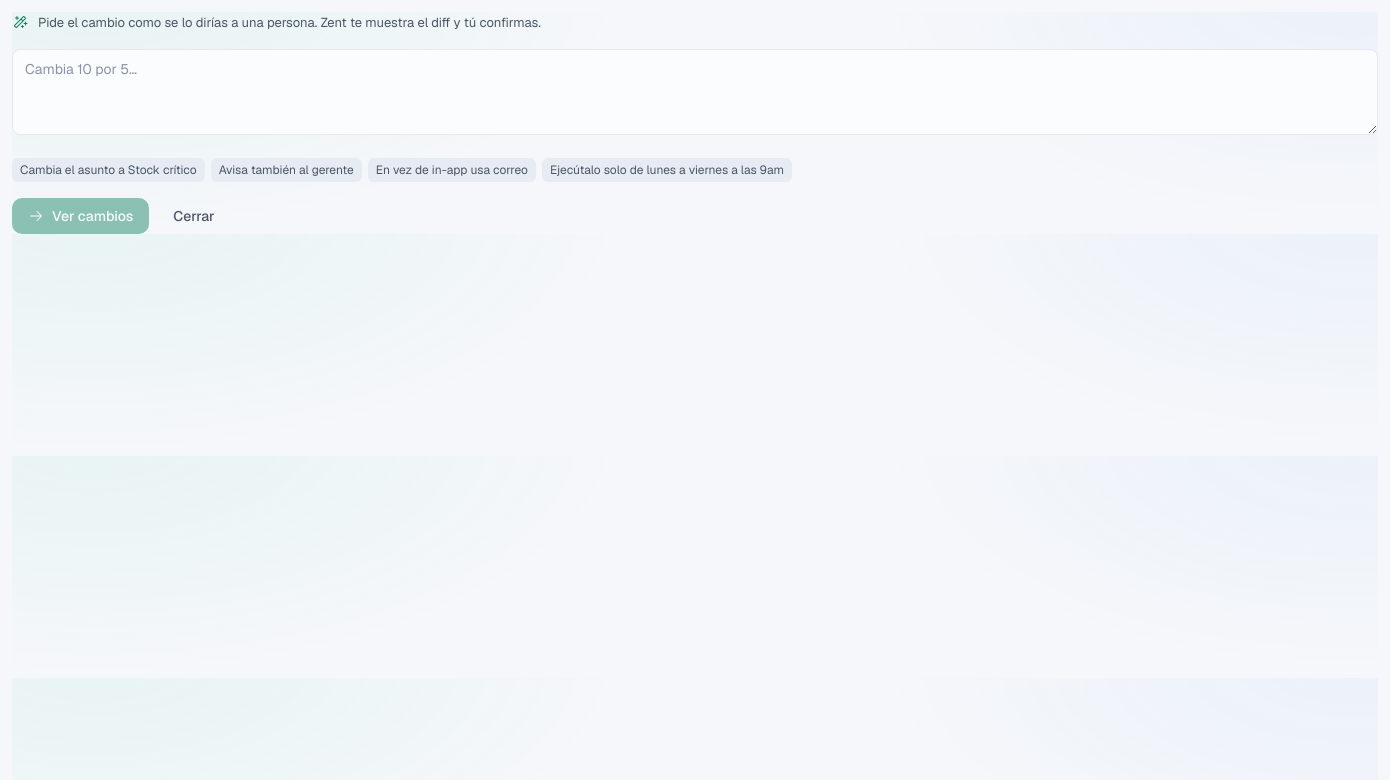
Test: WorkflowPatchPanel › explica cuando no hay cambios aplicables
Type "haz algo" into the text box with test id "wf-patch-prompt" at (695, 92), box [12,49,1378,135]
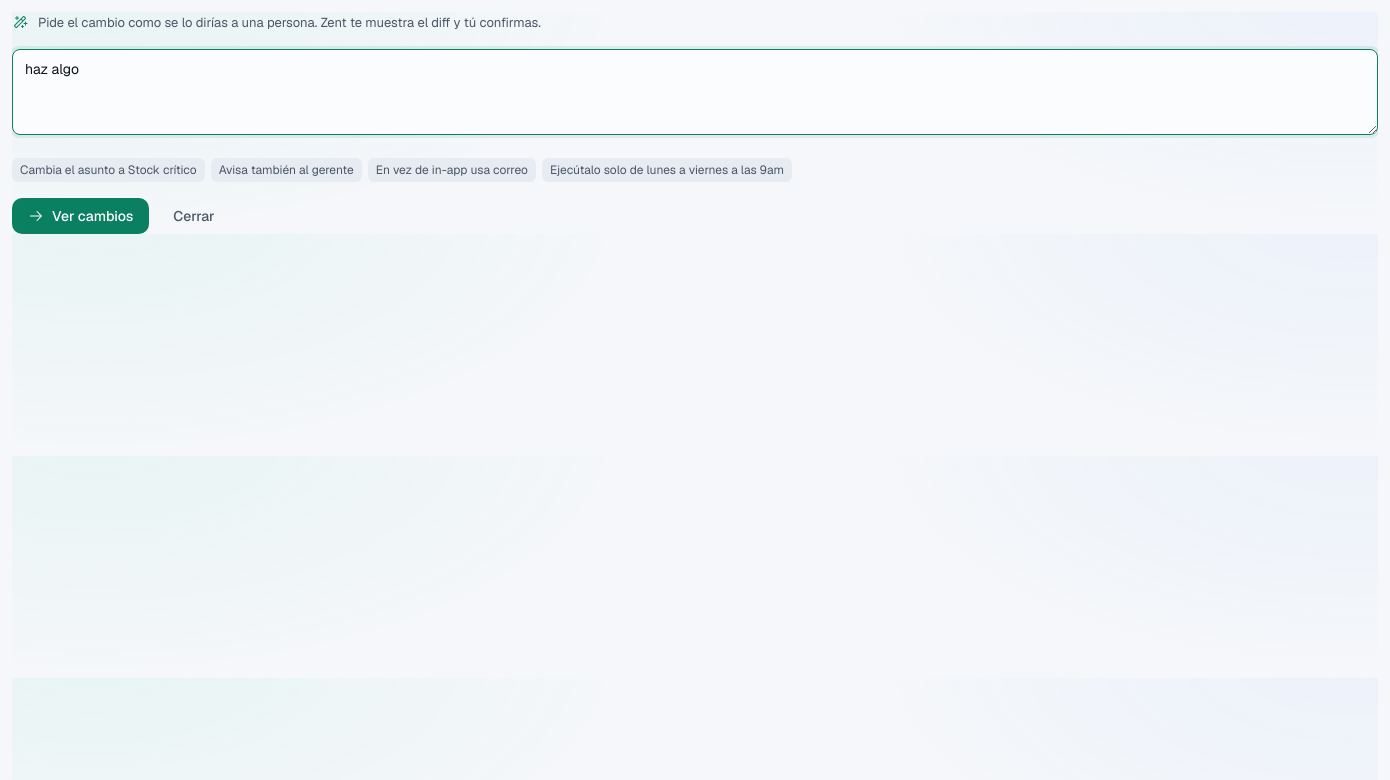
Click the button with test id "wf-patch-preview" at (81, 216), box [12,198,149,234]
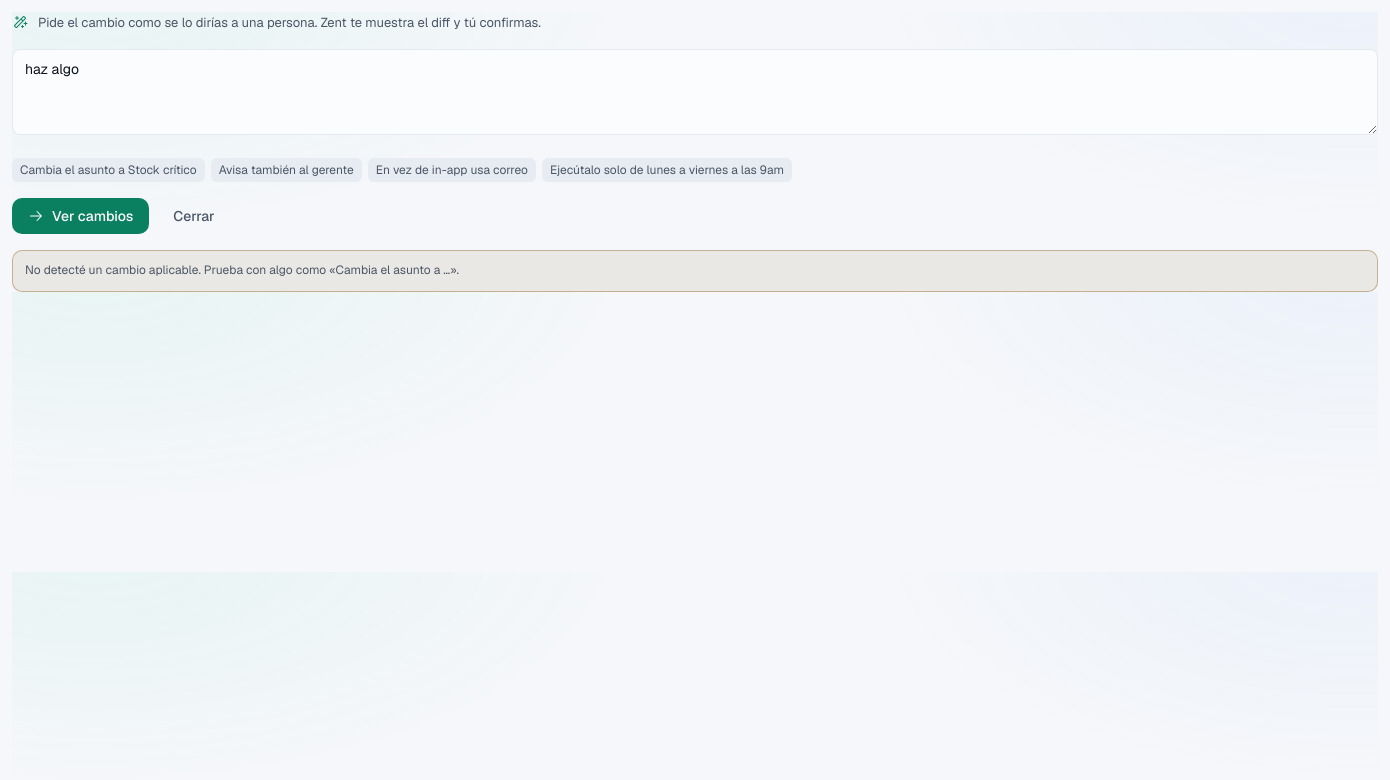
Result: the text with test id "wf-patch-empty" is shown at [12,250,1378,292]
